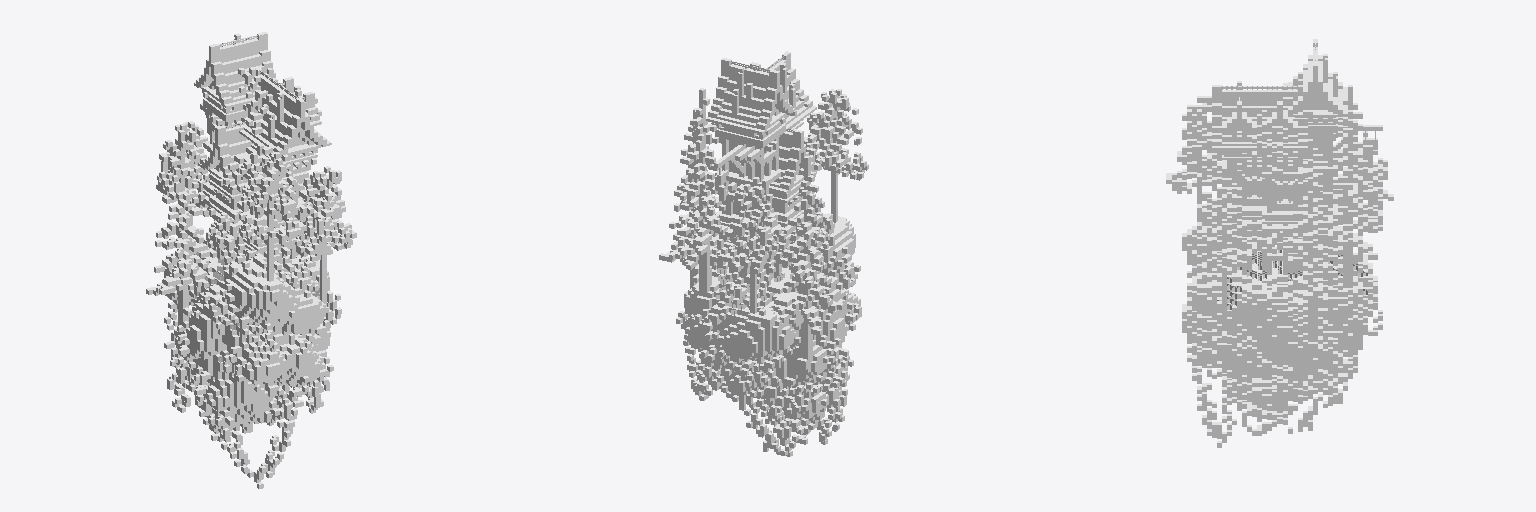
The model's file is Mineways2Skfb.obj.
3 views of the same model, side by side, from view 1: azimuth 30°, elevation 25°; view 2: azimuth 150°, elevation 25°; view 3: azimuth 270°, elevation 25° (orthographic).
Visible parts, largest first — view 1: lb7__-107_62_274_to_-56_255_329; view 2: lb7__-107_62_274_to_-56_255_329; view 3: lb7__-107_62_274_to_-56_255_329.
Part boxes in pixels (x1,y1,x2,y2): lb7__-107_62_274_to_-56_255_329: (146, 32, 356, 488); lb7__-107_62_274_to_-56_255_329: (659, 51, 868, 456); lb7__-107_62_274_to_-56_255_329: (1166, 39, 1393, 447).
Size of the model in its own units: 0.4333 by 0.9889 by 0.5.